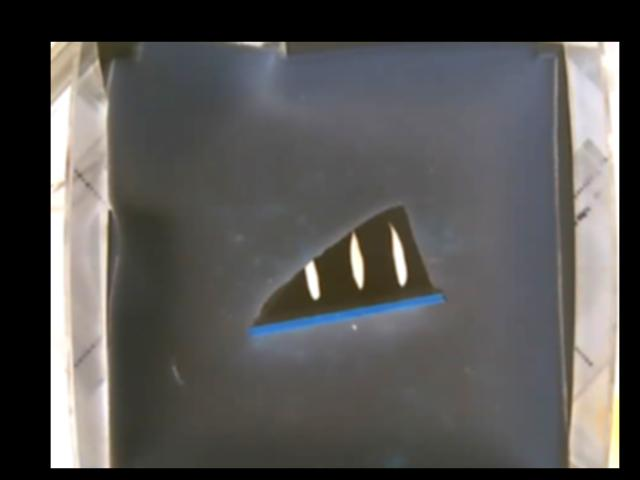China: (243, 202, 446, 336)
